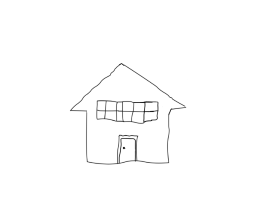closed_window: (94, 96, 165, 128)
door: (113, 130, 142, 168)
single_line_roof: (66, 55, 196, 116)
small_house: (0, 1, 260, 220)
wall: (79, 98, 175, 168)
